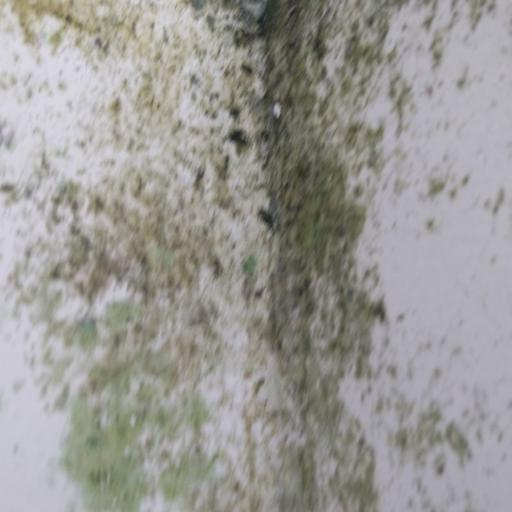algae: (37, 5, 512, 512)
